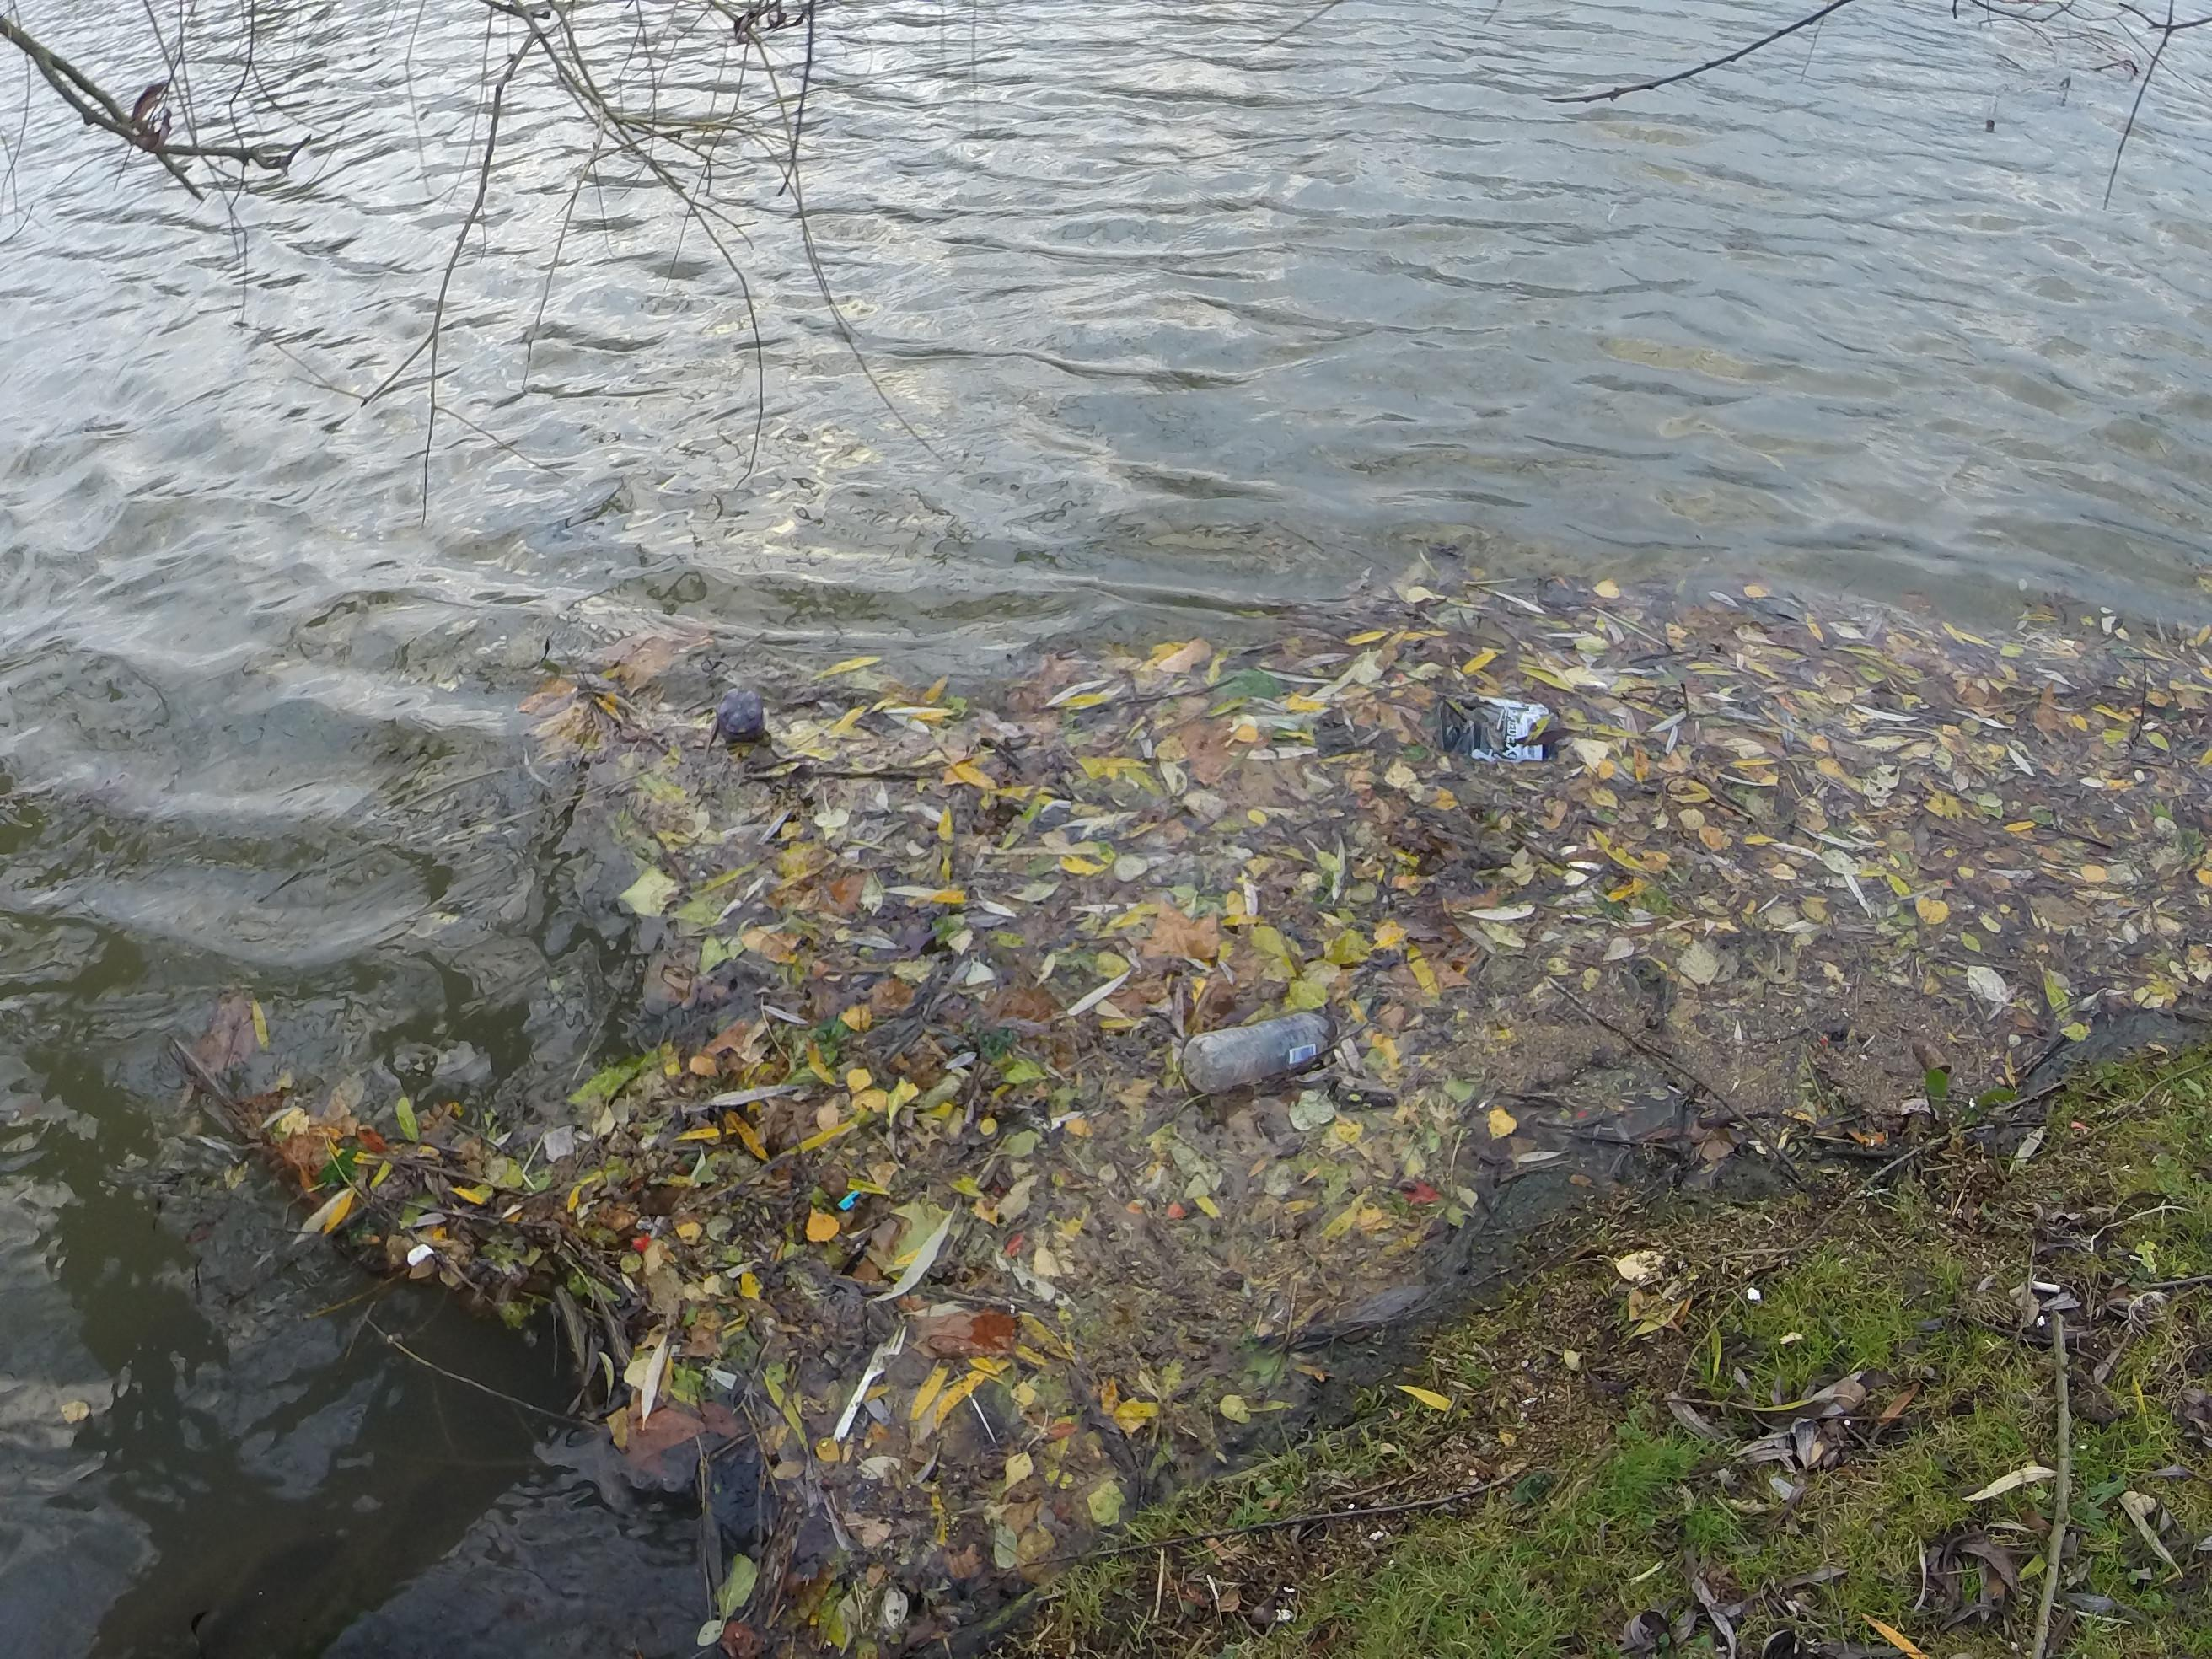Trash: (1165, 1004, 1343, 1089), (1442, 688, 1554, 769)
